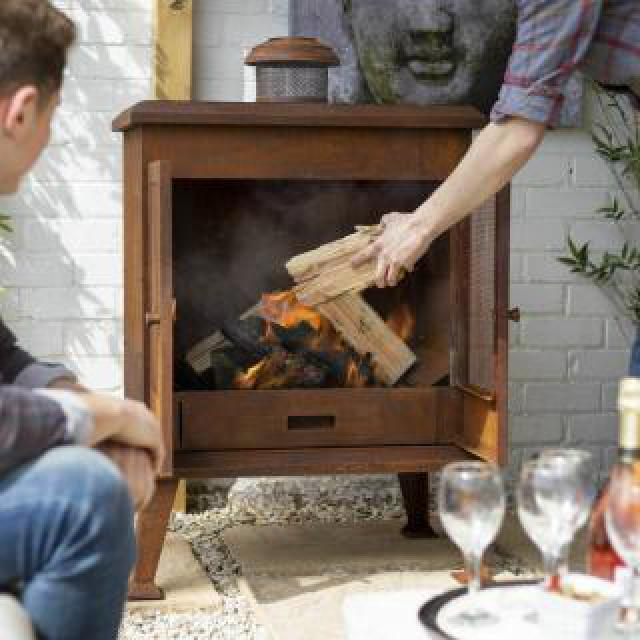Fire: (230, 288, 398, 394)
